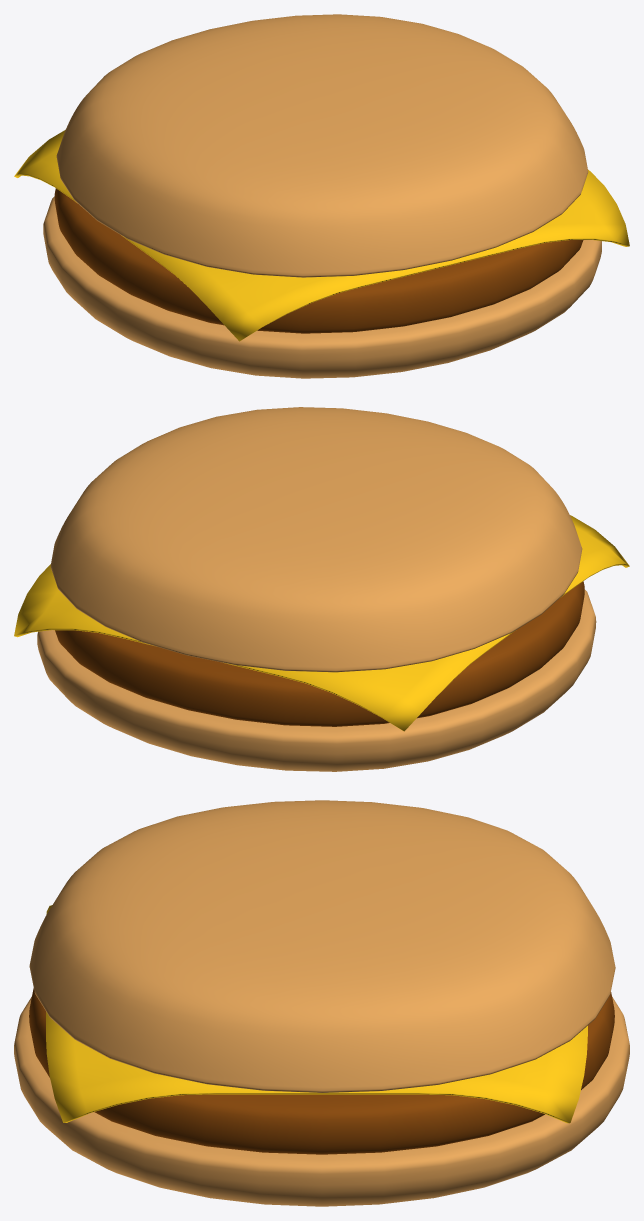
File: handburger.glb
3 renders of one model, top to bottom at view 1: azimuth 30°, elevation 25°; view 2: azimuth 150°, elevation 25°; view 3: azimuth 270°, elevation 25°, orthographic. The views are drawn at different scales.
Parts seen in each view (by area): view 1: Cube.002, Cube, Cube.001, Plane; view 2: Cube.002, Cube, Cube.001, Plane; view 3: Cube.002, Cube, Cube.001, Plane.
Boxes of the visible parts, x1,y1,x2,y2 form: Cube.002: (56, 14, 588, 277); Cube: (43, 196, 601, 378); Cube.001: (54, 188, 583, 333); Plane: (14, 130, 629, 341); Cube.002: (50, 407, 582, 672); Cube: (37, 589, 596, 771); Cube.001: (55, 581, 584, 726); Plane: (14, 515, 629, 731); Cube.002: (29, 800, 615, 1092); Cube: (14, 996, 629, 1206); Cube.001: (29, 988, 614, 1154); Plane: (46, 905, 587, 1123).
Bounding box in the file's own units: 1.83 × 0.7663 × 1.83.
